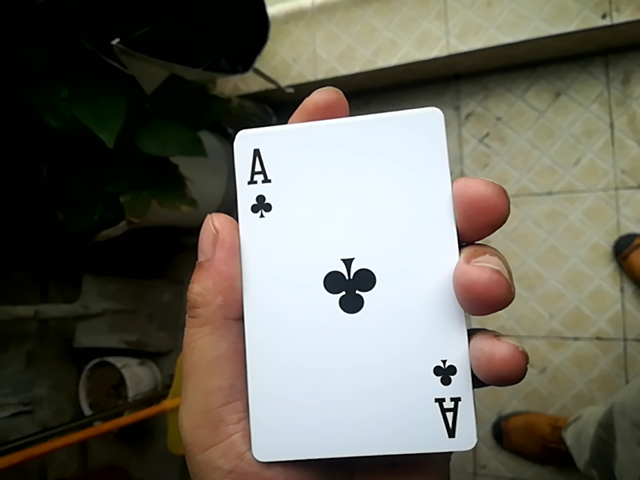mh a: (229, 99, 471, 462)
